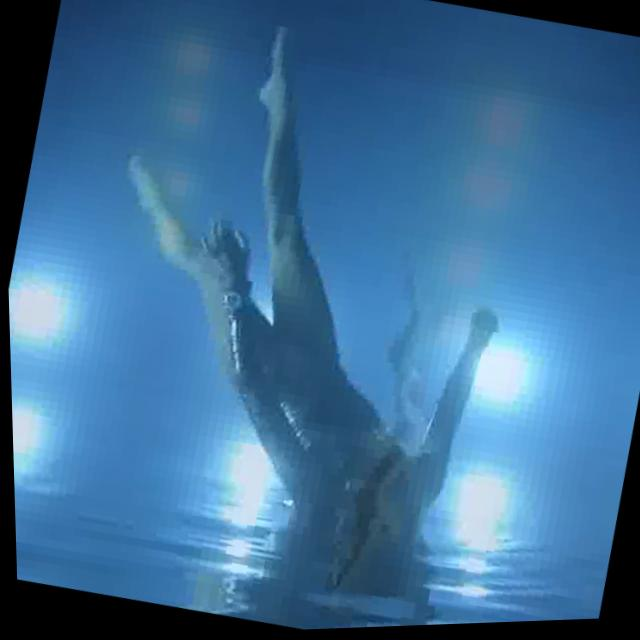human: (46, 0, 577, 592)
